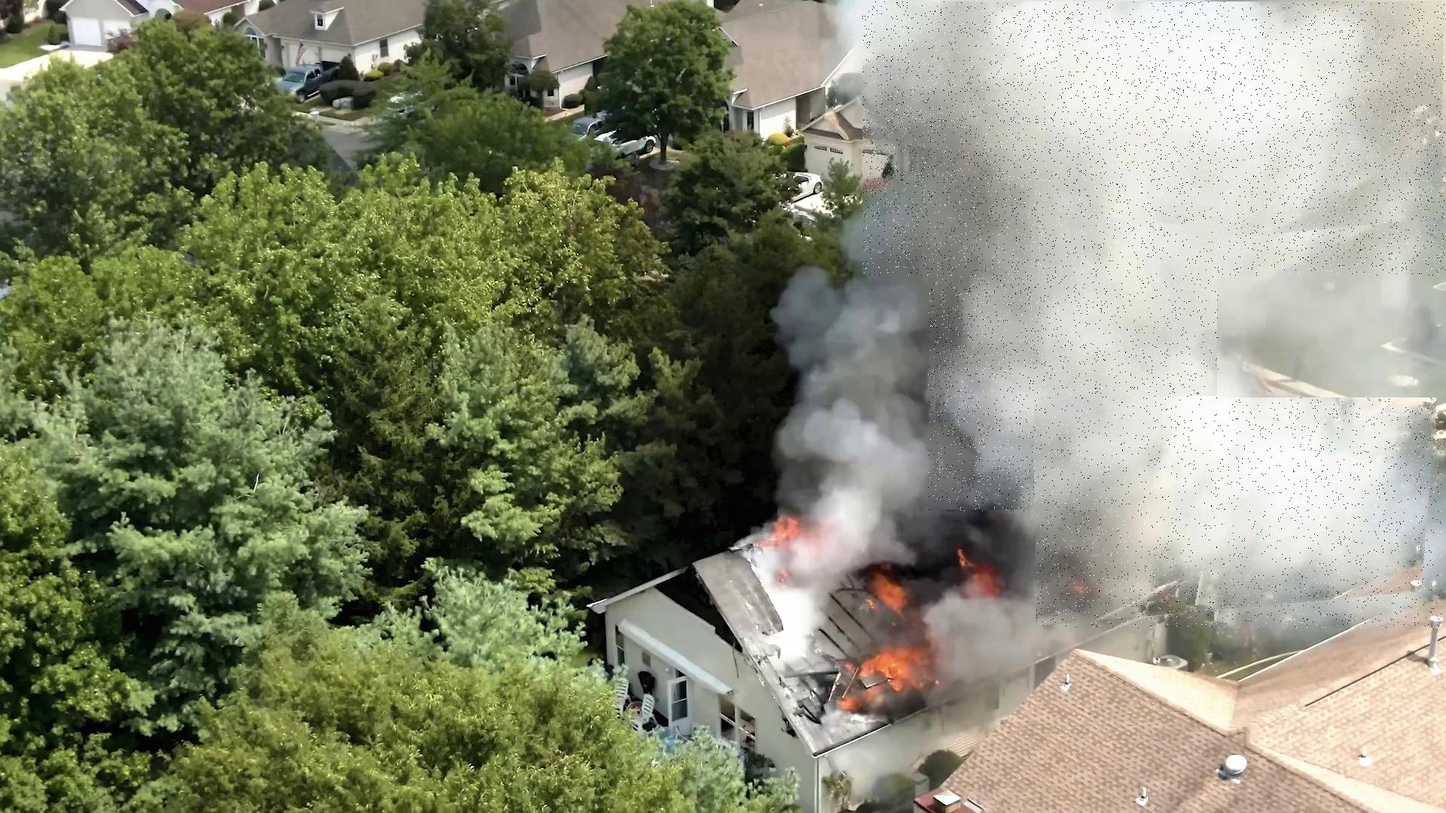smoke: (863, 2, 1446, 276), (1036, 398, 1442, 628), (929, 200, 1219, 512)
